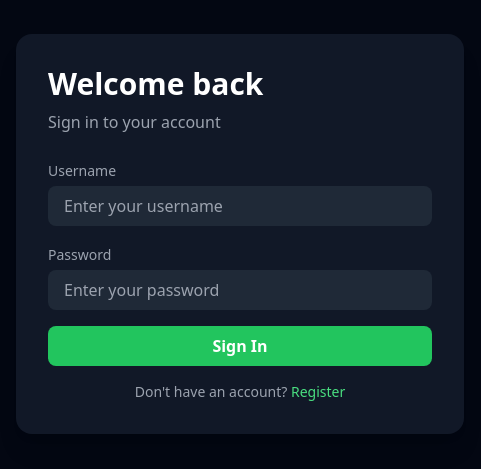
Test: Login › shows an error message when login fails
In the field with placeholder "Enter your username": (240, 206) [48,186,432,226], type "baduser"
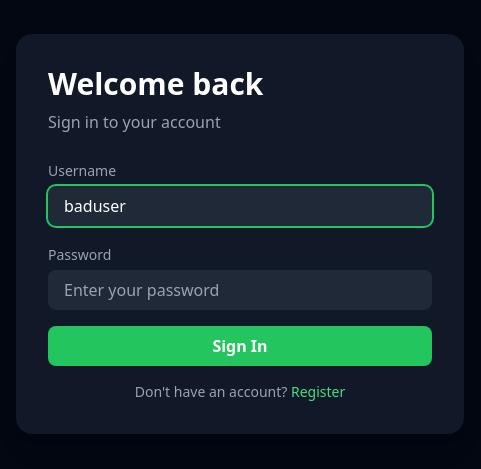
In the password field with placeholder "Enter your password": (240, 290) [48,270,432,310], type "badpass"
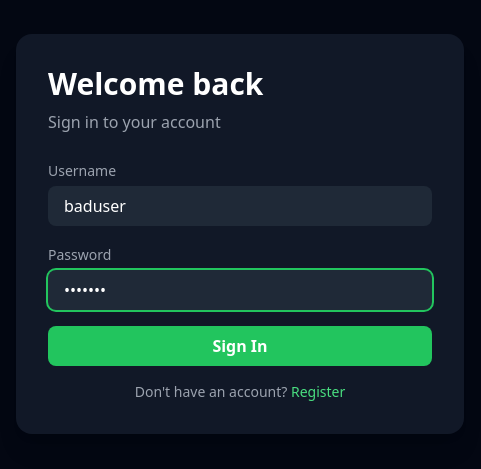
Click the button "Sign In": (240, 346) [48,326,432,366]
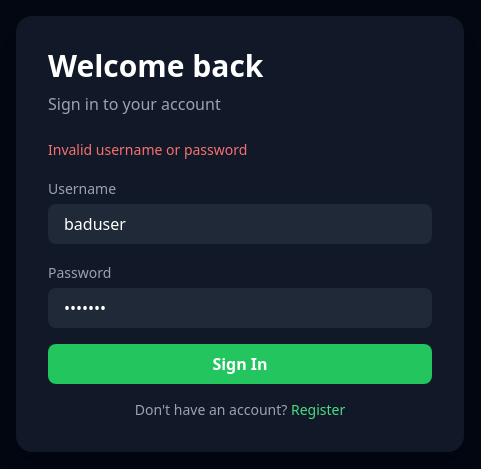
Expected: the text "Invalid username or password" is shown, [48,140,247,159]
